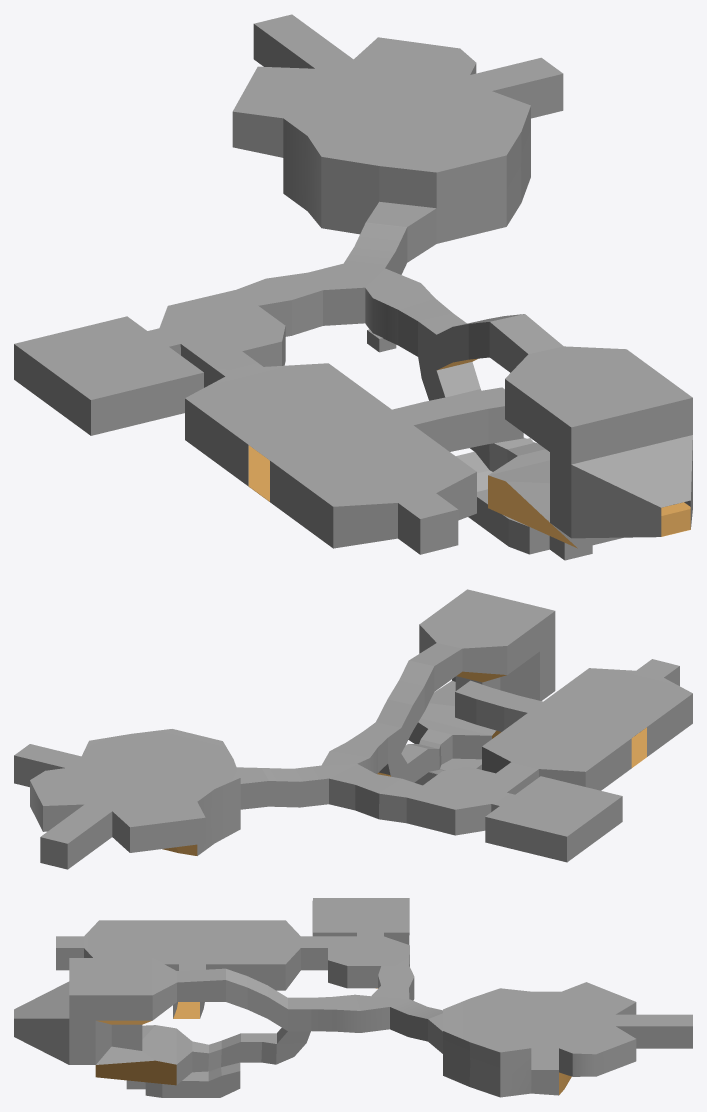
Rendered from map_test.fbx.
3 renders of one model, top to bottom at view 1: azimuth 30°, elevation 25°; view 2: azimuth 150°, elevation 25°; view 3: azimuth 270°, elevation 25°, orthographic. The views are drawn at different scales.
Visible parts, largest first — view 1: map; view 2: map; view 3: map.
Part boxes in pixels (x1,y1,x2,y2): map: [14, 14, 692, 560]; map: [14, 589, 692, 869]; map: [14, 898, 692, 1097].
Bounding box in the file's own units: 648 × 173 × 937.
